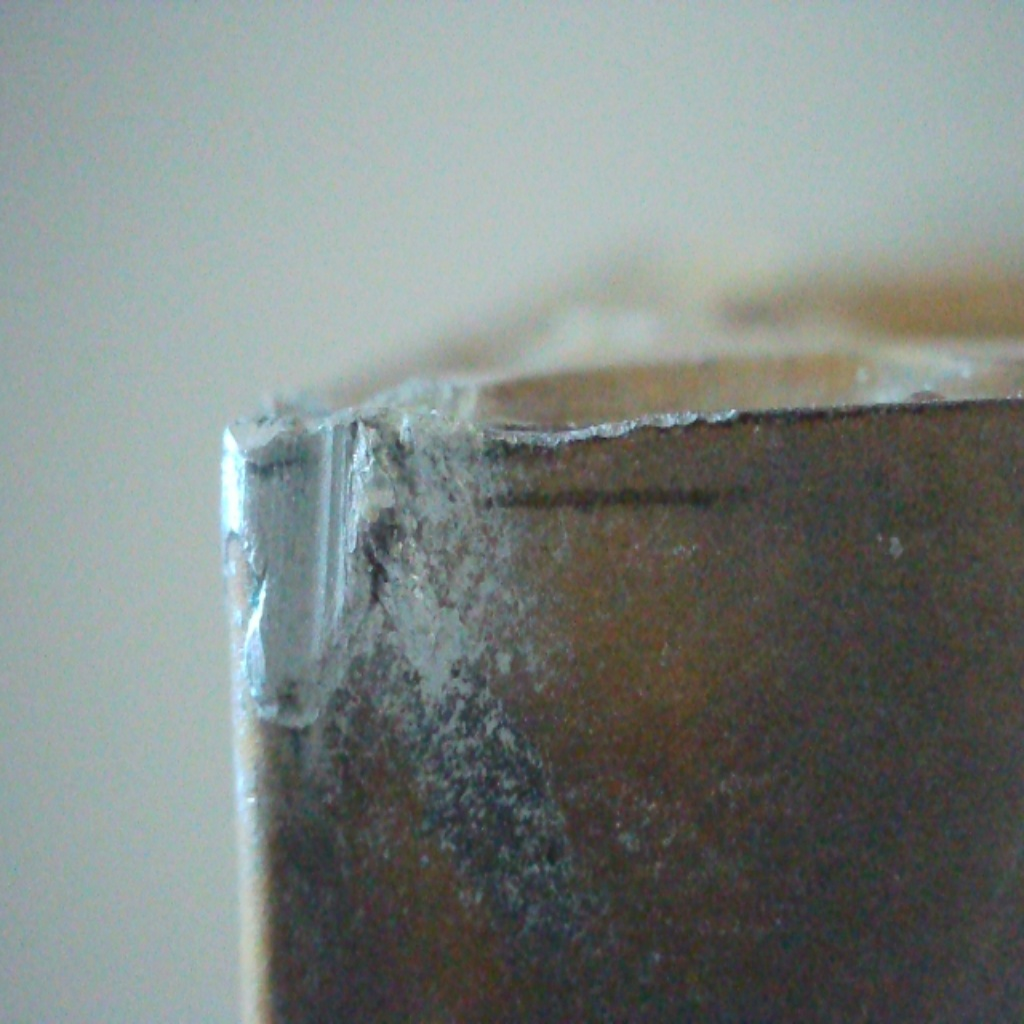flank_wear: (216, 423, 397, 723), (388, 408, 747, 460)
